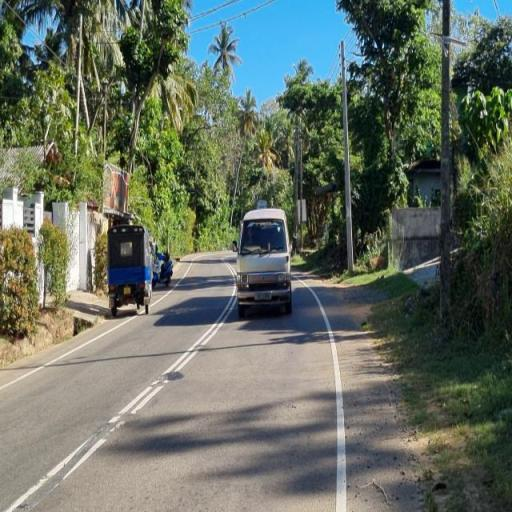double_white_line: (110, 294, 236, 430)
